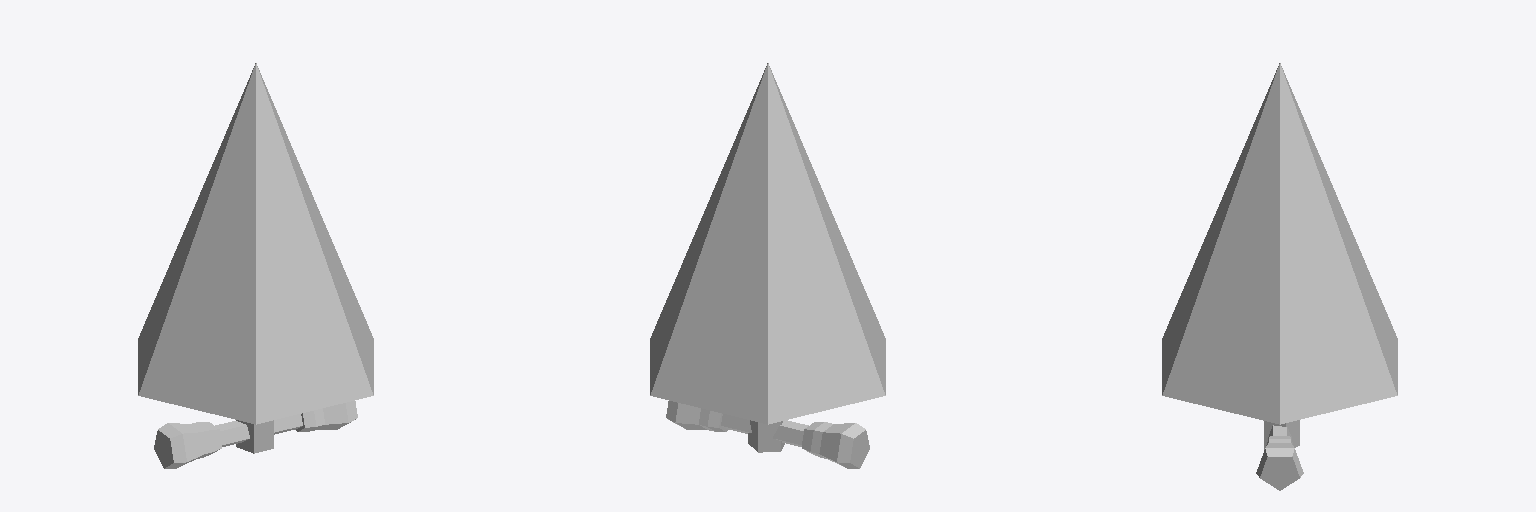
Rendered from DrillObj.obj.
3 views of the same model, side by side, from view 1: azimuth 30°, elevation 25°; view 2: azimuth 150°, elevation 25°; view 3: azimuth 270°, elevation 25° (orthographic).
Parts seen in each view (by area): view 1: Mesh polySurface17, Mesh polySurface19, polySurface18 Mesh; view 2: Mesh polySurface17, Mesh polySurface19, polySurface18 Mesh; view 3: Mesh polySurface17, Mesh polySurface19.
Boxes of the visible parts, x1=… form: Mesh polySurface17: x1=138, y1=63, x2=373, y2=424; Mesh polySurface19: x1=154, y1=401, x2=357, y2=468; polySurface18 Mesh: x1=236, y1=420, x2=273, y2=453; Mesh polySurface17: x1=650, y1=63, x2=885, y2=424; Mesh polySurface19: x1=666, y1=401, x2=869, y2=468; polySurface18 Mesh: x1=748, y1=420, x2=784, y2=452; Mesh polySurface17: x1=1162, y1=63, x2=1397, y2=424; Mesh polySurface19: x1=1256, y1=425, x2=1303, y2=490.
Bounding box in the file's own units: 5.52 × 8.67 × 4.78.